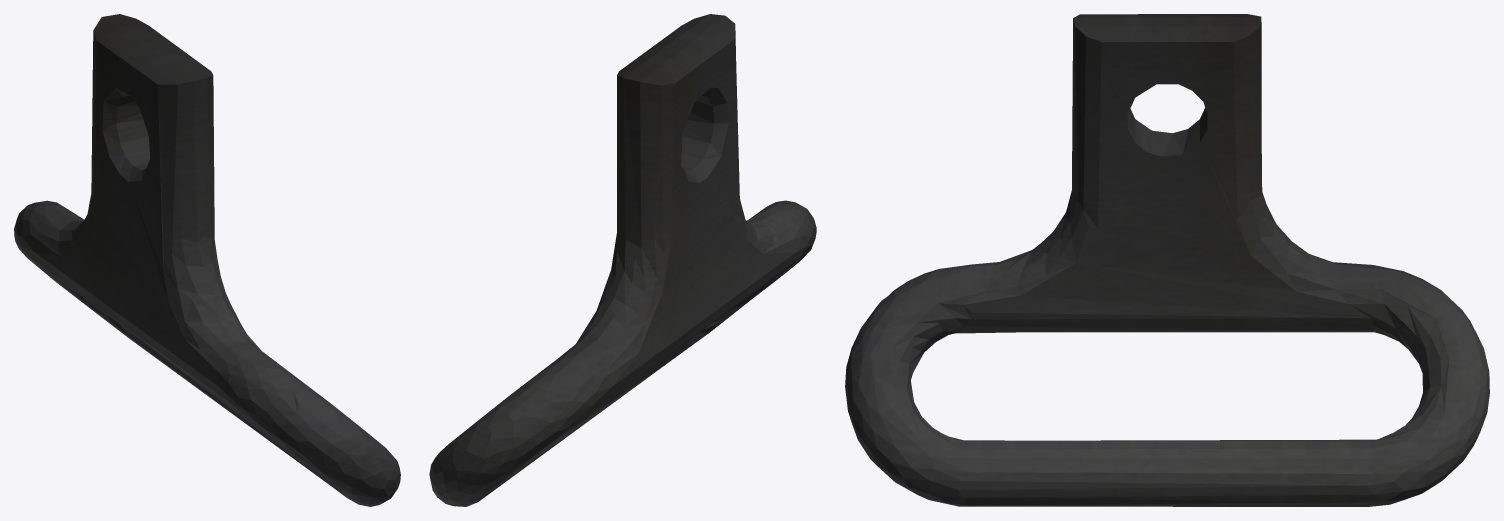
Rendered from Swivel_LAMA1259863095.dae.
The picture shows the model from 3 angles, left to right: view 1: azimuth 30°, elevation 25°; view 2: azimuth 150°, elevation 25°; view 3: azimuth 270°, elevation 25°; orthographic projection. The views are drawn at different scales.
Visible parts, largest first — view 1: Swivel_LAMA1259863095; view 2: Swivel_LAMA1259863095; view 3: Swivel_LAMA1259863095.
Boxes of the visible parts, x1,y1,x2,y2 form: Swivel_LAMA1259863095: [14, 14, 400, 506]; Swivel_LAMA1259863095: [429, 14, 816, 506]; Swivel_LAMA1259863095: [845, 14, 1489, 506].
Bounding box in the file's own units: 0.013 × 0.042 × 0.0307.
1 material, 1 textured.
